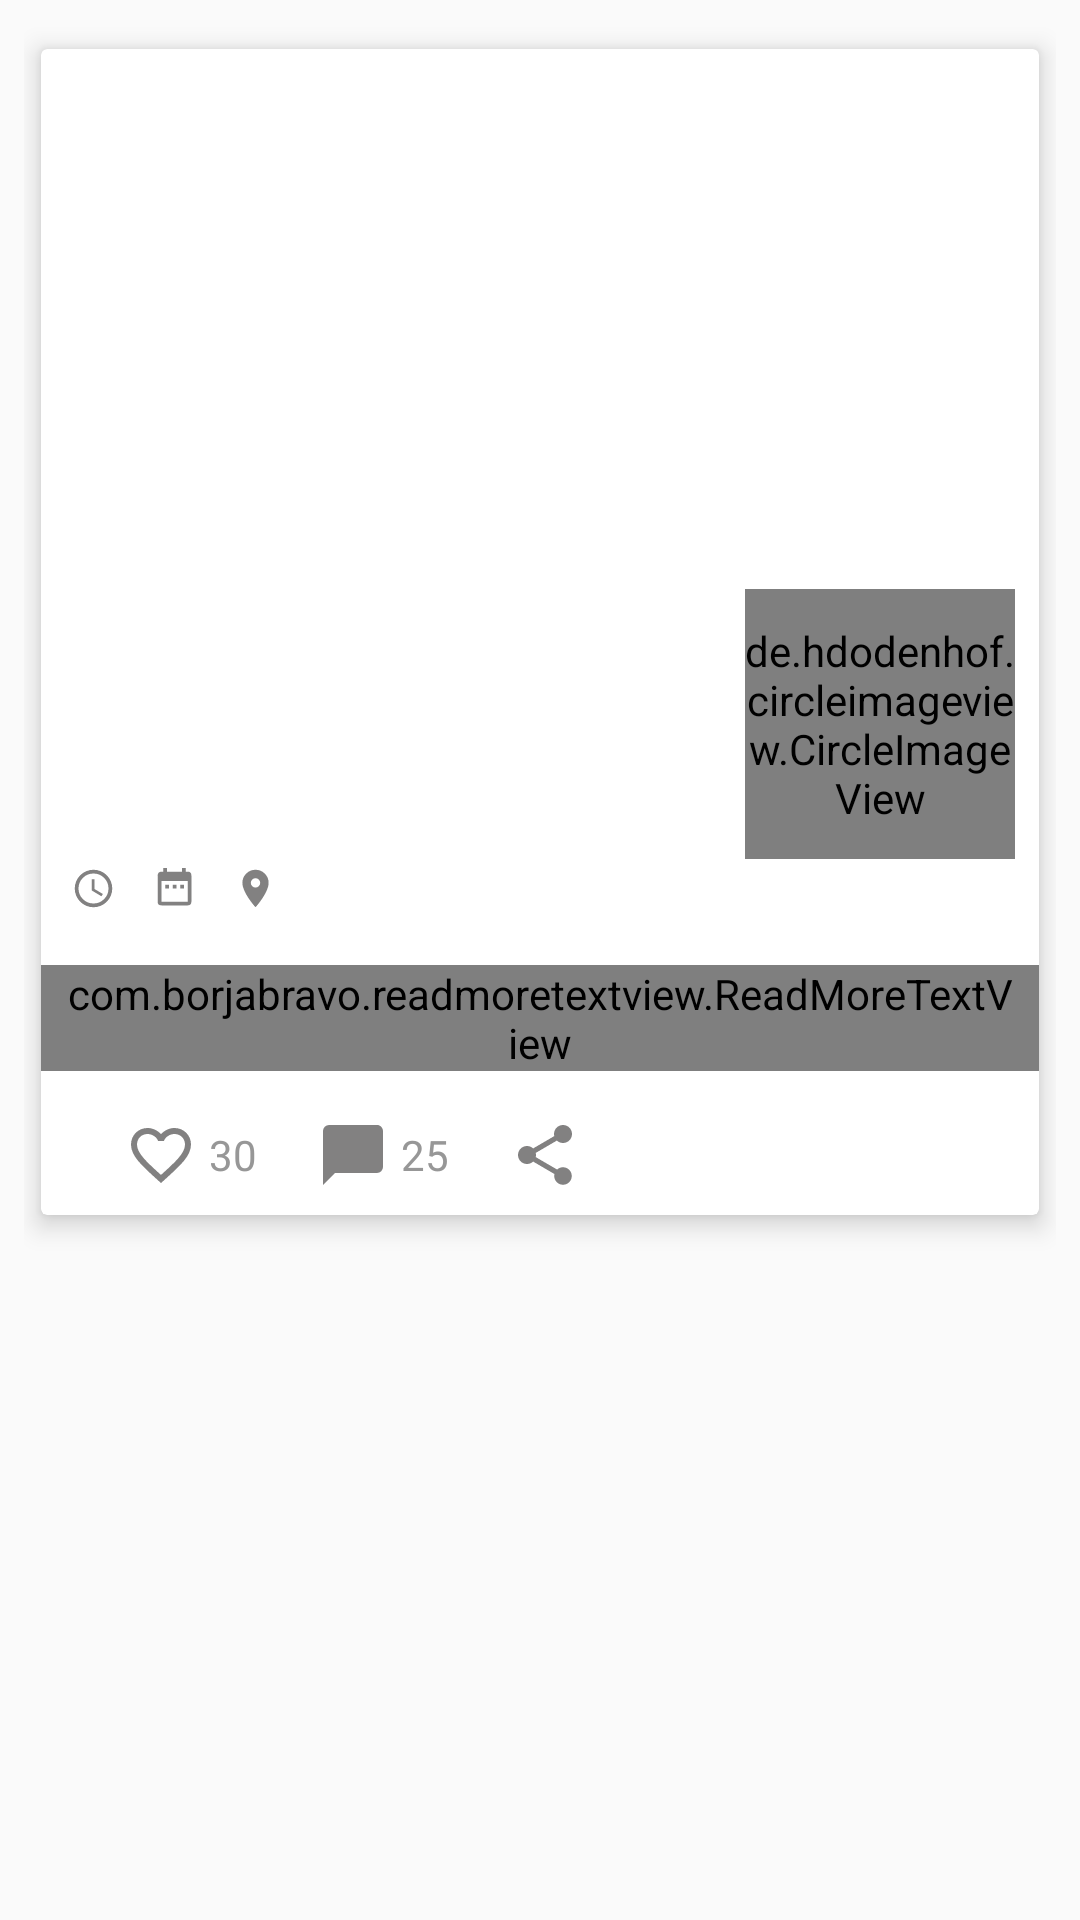

Screen size 1080x1920. Icon name, then its center in pixels as [x,y]:
calendar: [174,887]
comments: [353,1155]
like: [161,1155]
place: [255,888]
share: [545,1155]
time: [93,888]
